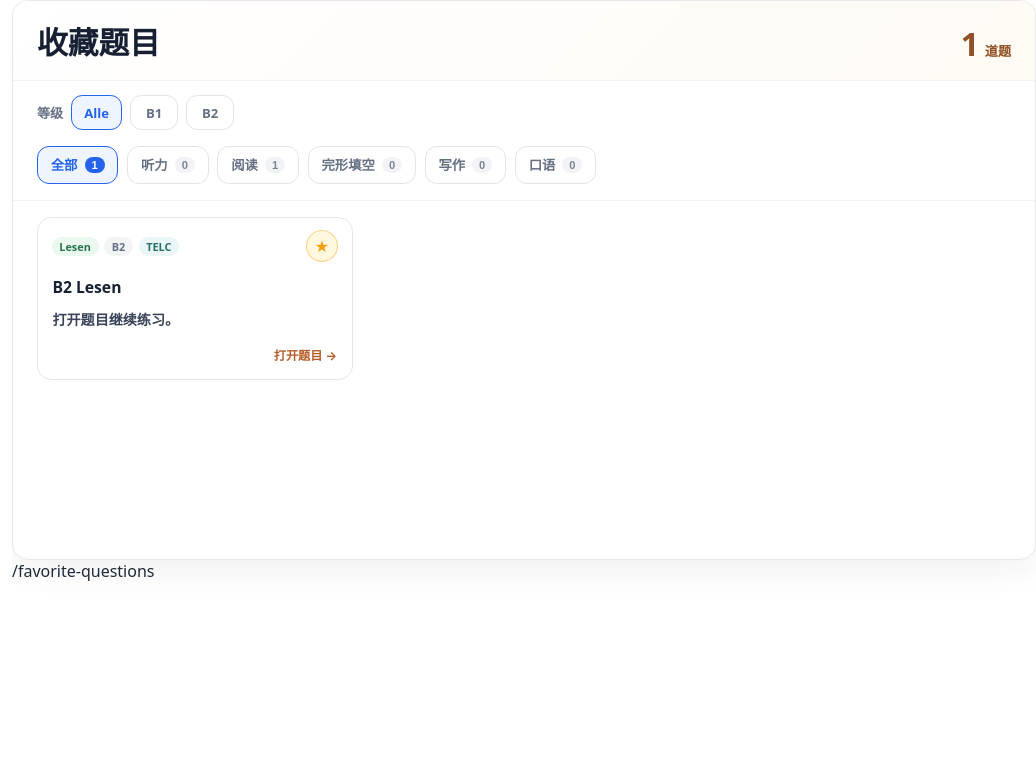
Test: FavoriteQuestionsPage › keeps the Alle baseline when a scoped level has no favorites
Expected: the link "B2 Lesen 打开题目继续练习。 打开题目 →" is shown, [38,262,352,379]
Click the button "B2": x=210, y=112 [186,95,234,130]
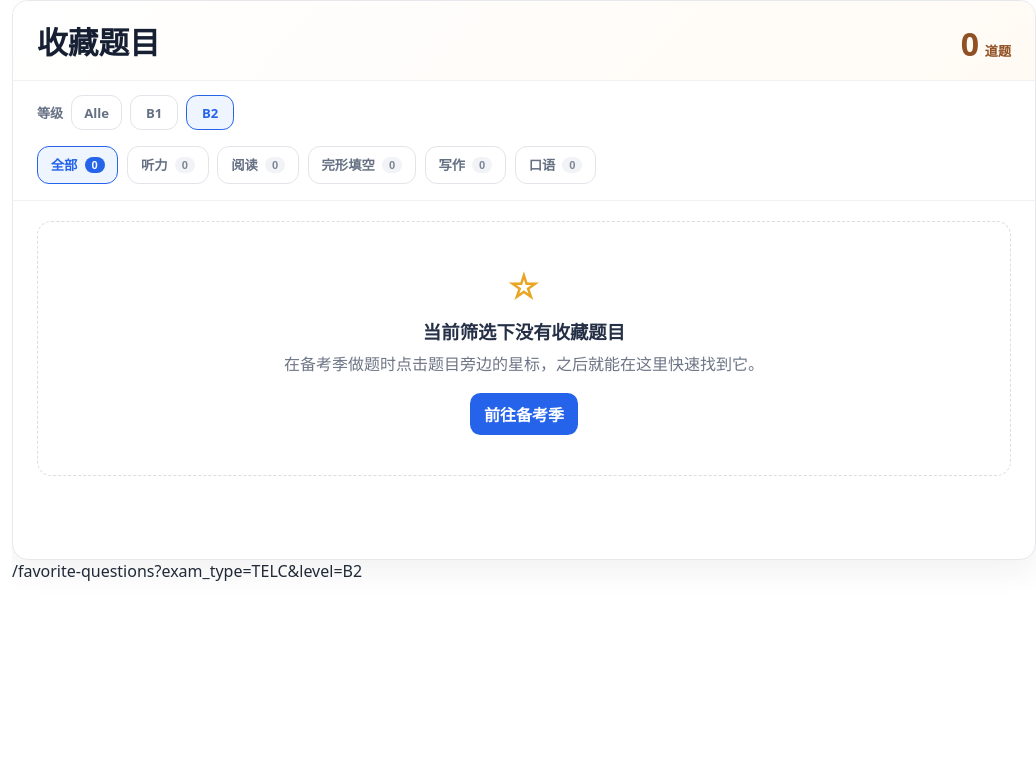
Now the heading "当前筛选下没有收藏题目" is shown, box [423,319,625,344]
